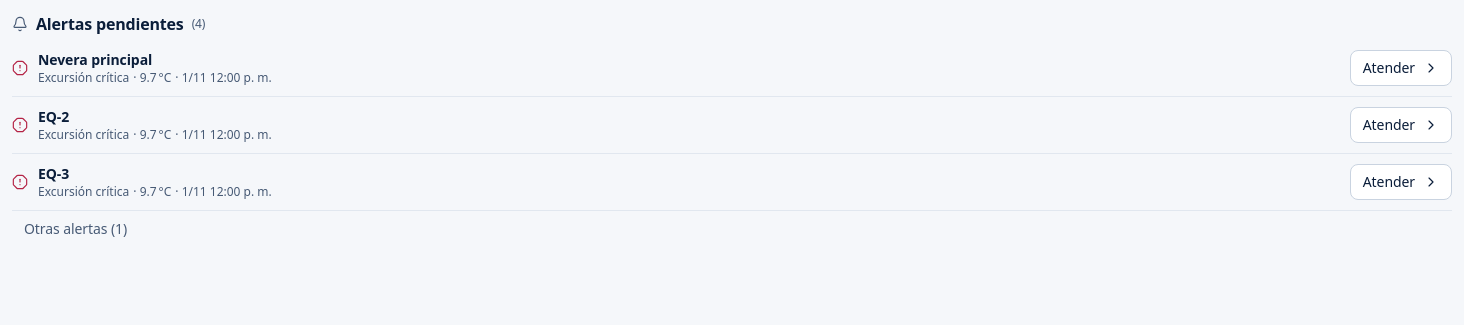
Scenario: Atención de alertas en la pantalla de monitoreo › presenta tres alertas y revela las restantes en la misma pantalla
Click the button "Otras alertas (1)". click: coordinates (76, 229)
box: [12,211,139,247]
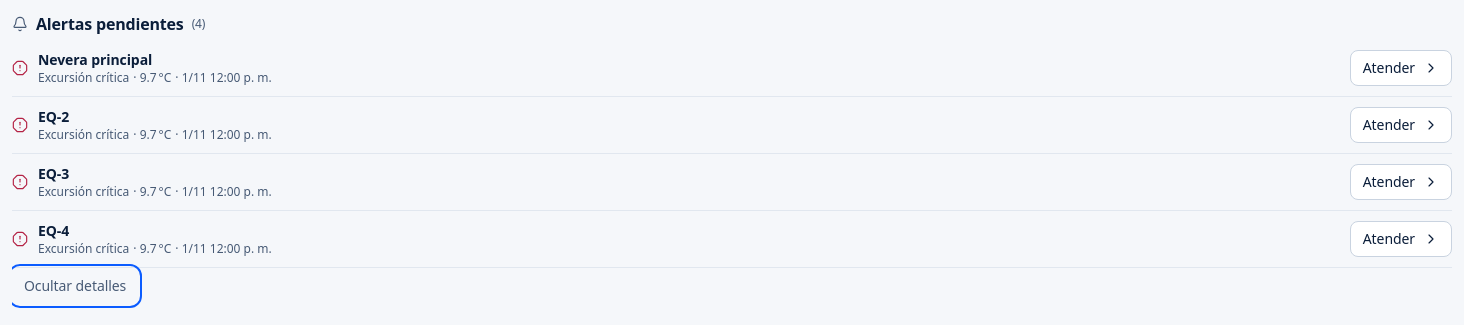
Expected: the button "Atender" in the row of "EQ-4" is shown, [1350,221,1452,257]
